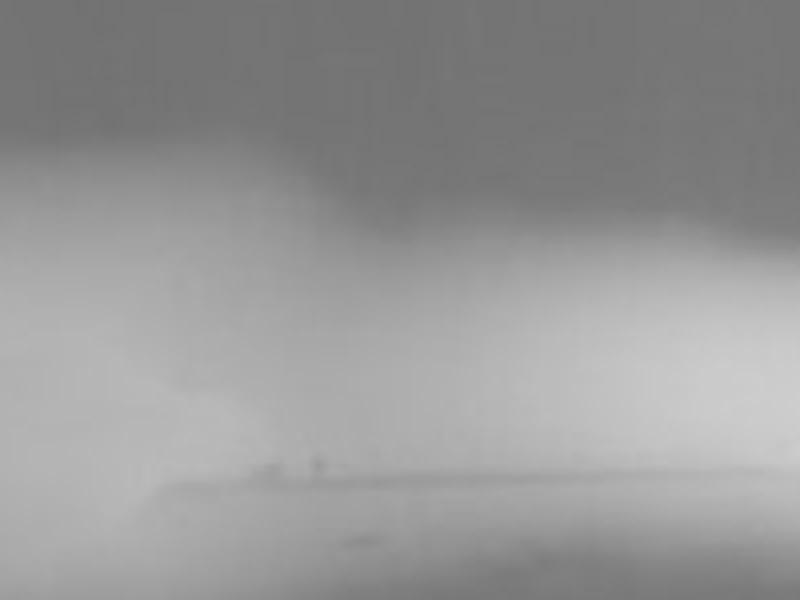defect: (250, 459, 284, 487), (342, 526, 380, 548), (308, 449, 331, 475)
